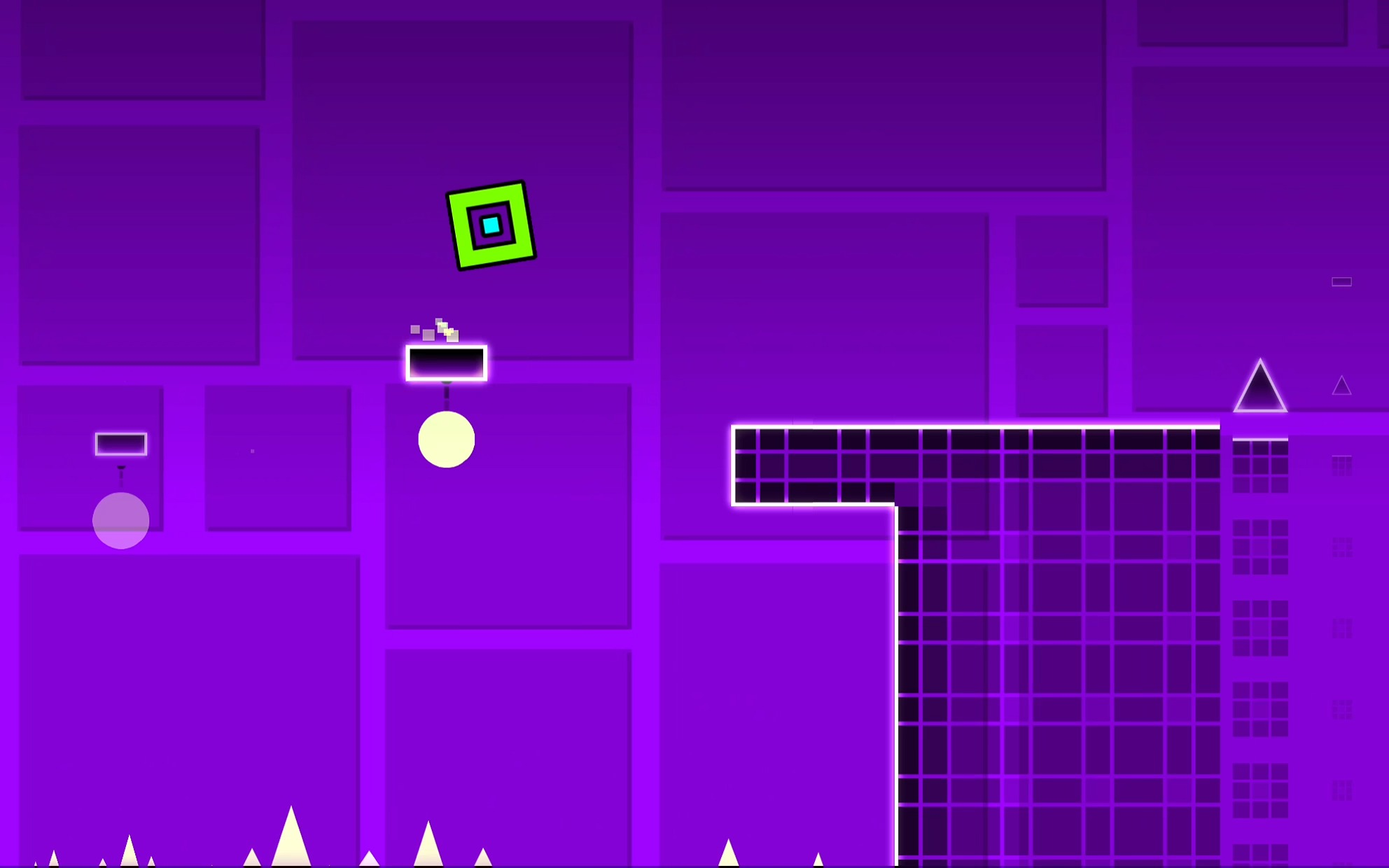Block2: (887, 421, 1292, 863), (732, 425, 900, 503)
Block3: (405, 344, 488, 382), (95, 432, 148, 455)
Player: (446, 181, 536, 268)
Spike: (1234, 359, 1287, 411)
